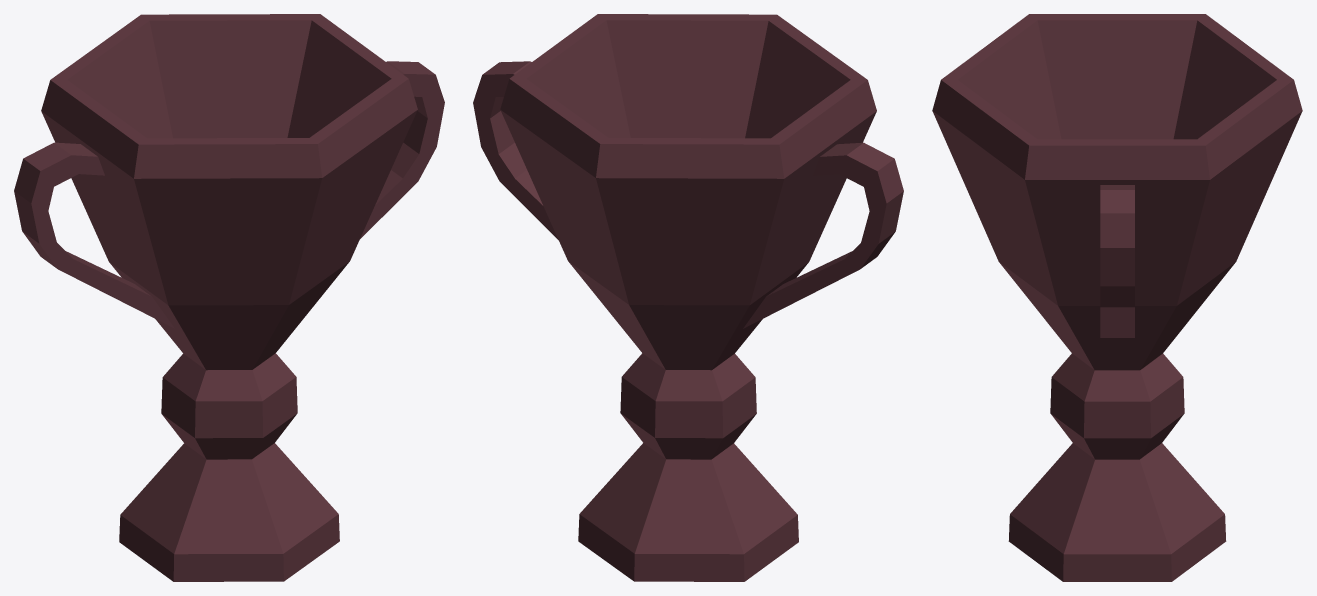
File: trophy-silver-big.fbx
3 renders of one model, left to right at view 1: azimuth 30°, elevation 25°; view 2: azimuth 150°, elevation 25°; view 3: azimuth 270°, elevation 25°, orthographic.
Visible parts, largest first — view 1: trophy-silver-big; view 2: trophy-silver-big; view 3: trophy-silver-big.
Boxes of the visible parts, x1=… form: trophy-silver-big: x1=14, y1=14, x2=444, y2=581; trophy-silver-big: x1=473, y1=14, x2=903, y2=581; trophy-silver-big: x1=932, y1=14, x2=1302, y2=581.
Bounding box in the file's own units: 0.3557 × 0.38 × 0.2763.
